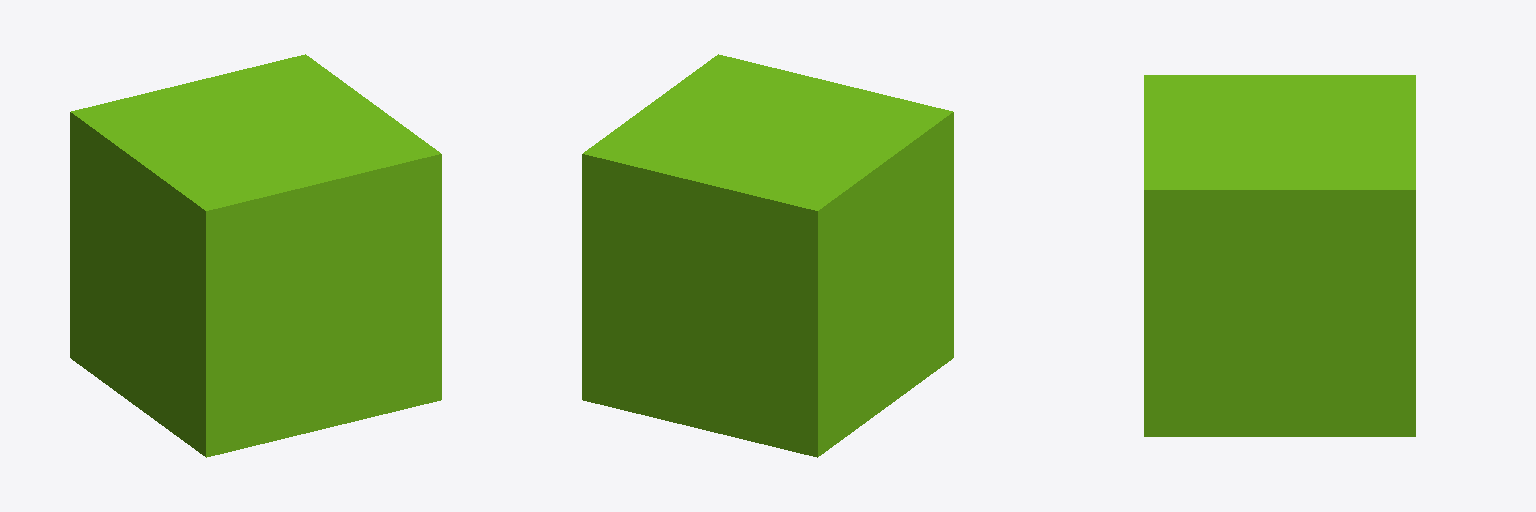
The model's file is cajaConToro.obj.
The picture shows the model from 3 angles: view 1: azimuth 30°, elevation 25°; view 2: azimuth 150°, elevation 25°; view 3: azimuth 270°, elevation 25°; orthographic projection.
Parts seen in each view (by area): view 1: Cube; view 2: Cube; view 3: Cube.
Boxes of the visible parts, box(x1,y1,x2,y2) form: Cube: box(70, 54, 441, 457); Cube: box(582, 54, 953, 457); Cube: box(1144, 75, 1415, 436).
Bounding box in the file's own units: 60 × 60 × 60.